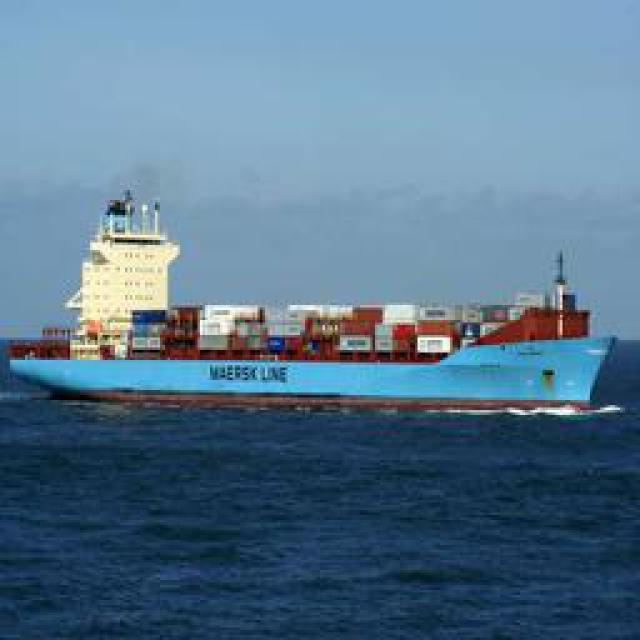Ship: (11, 264, 626, 419)
